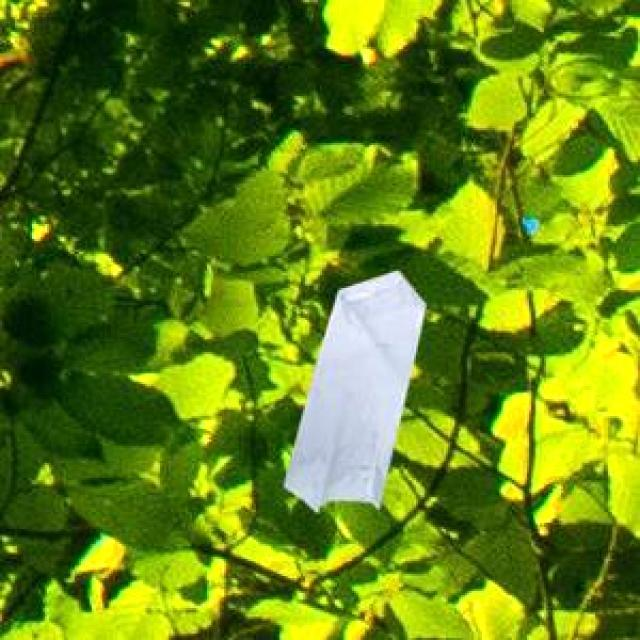Plastic_Bag: (280, 268, 422, 509)
